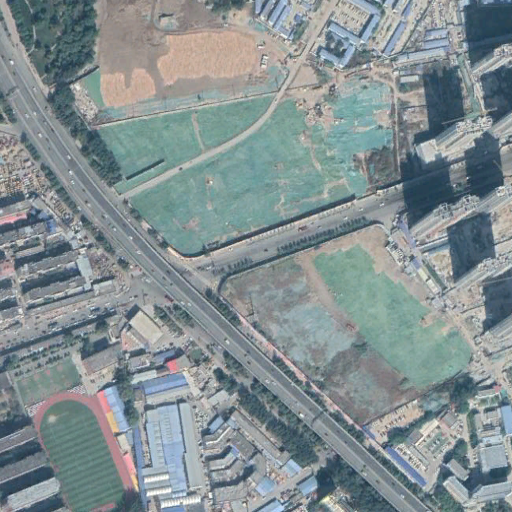cw: (65, 65, 487, 257), (214, 226, 473, 427)
